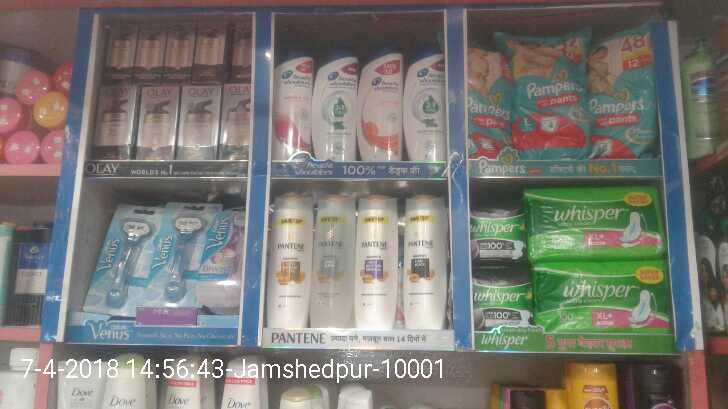venus: (92, 203, 153, 316), (157, 202, 202, 325), (204, 201, 243, 310)
